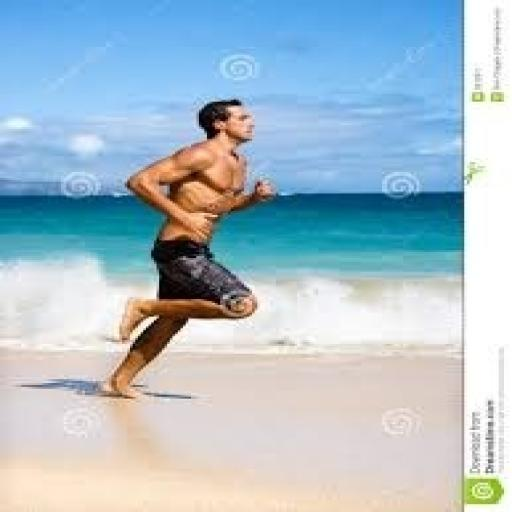running: (93, 96, 278, 400)
